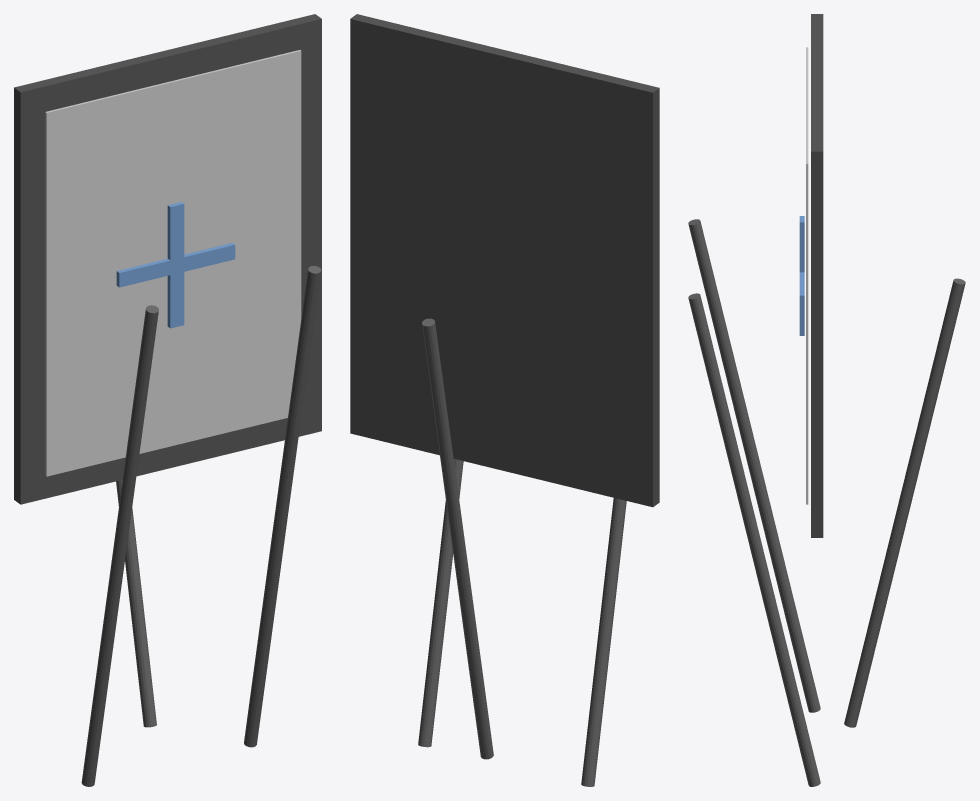
File: PhotoRoom.glb
The picture shows the model from 3 angles, left to right: view 1: azimuth 30°, elevation 25°; view 2: azimuth 150°, elevation 25°; view 3: azimuth 270°, elevation 25°; orthographic projection. The views are drawn at different scales.
Visible parts, largest first — view 1: world; view 2: world; view 3: world.
Boxes of the visible parts, x1=… form: world: x1=14, y1=14, x2=321, y2=786; world: x1=350, y1=14, x2=659, y2=786; world: x1=688, y1=14, x2=965, y2=786.
Bounding box in the file's own units: 1.3 × 2.93 × 1.11.
